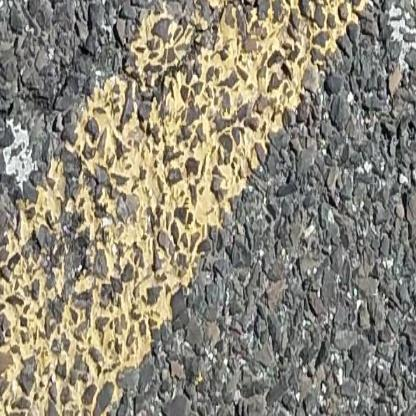Cracks: (0, 0, 141, 175)
